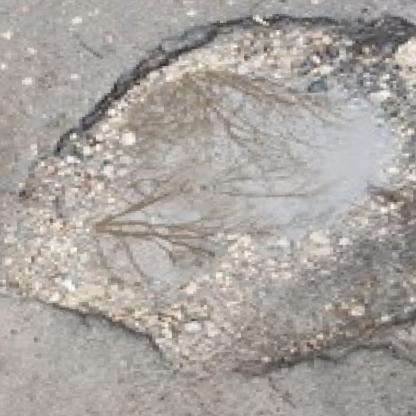pothole: (0, 1, 416, 387)
